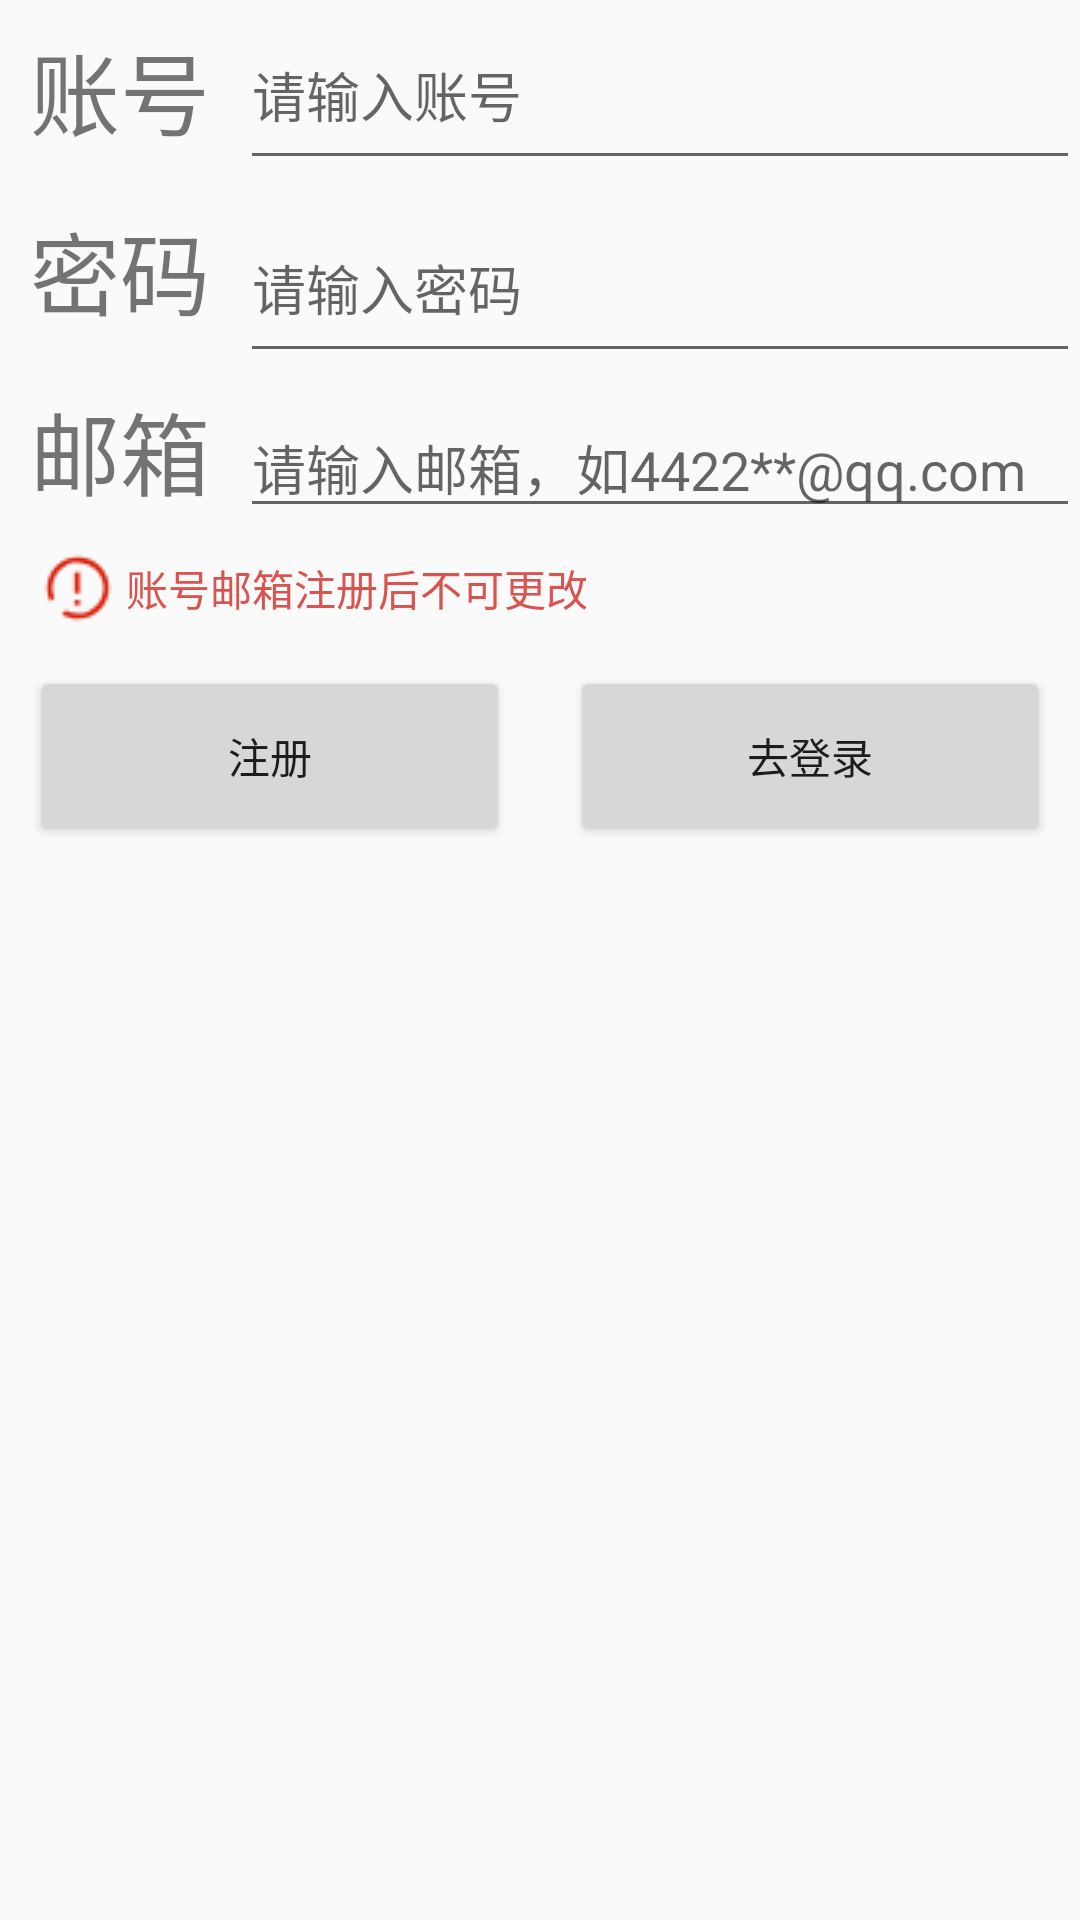

Where to tap for icons on this 1080 × 1920 app screen, as (x=x, y=y):
warning: (x=78, y=588)
